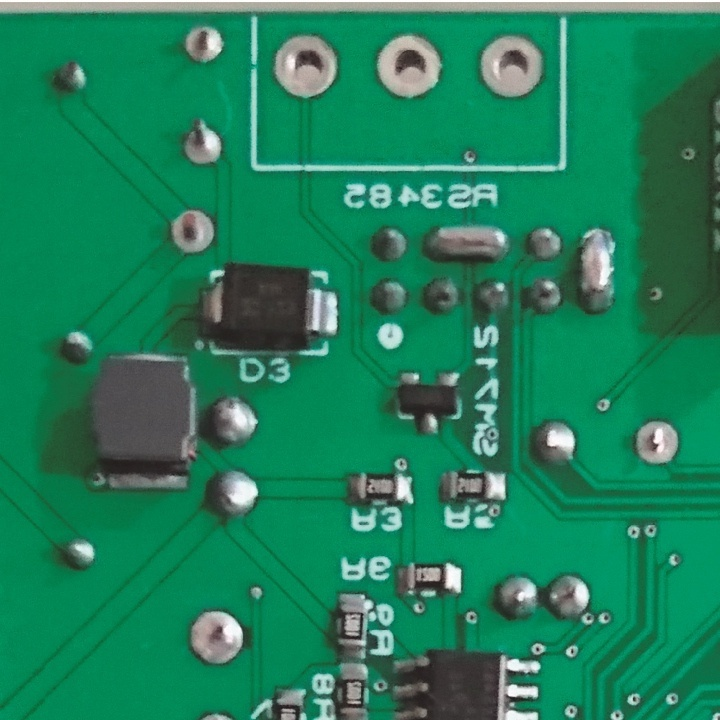F: (474, 30, 547, 103), (270, 32, 341, 103), (373, 31, 445, 101), (185, 608, 244, 667), (177, 116, 227, 166), (631, 419, 681, 466), (170, 205, 217, 254), (181, 21, 227, 66)
P: (576, 222, 620, 316), (419, 222, 513, 262)
